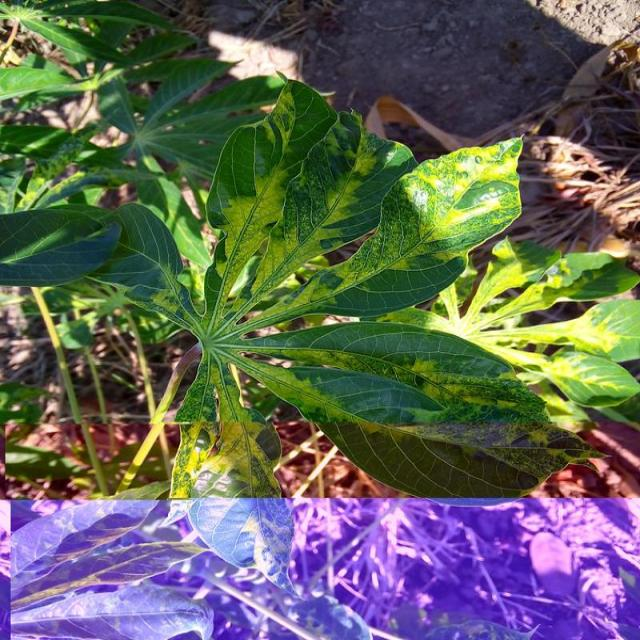cassava leaf: (2, 69, 637, 510)
